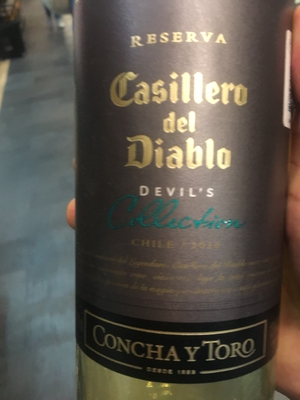casillero del diablo devils collection verde: (68, 4, 293, 400)
